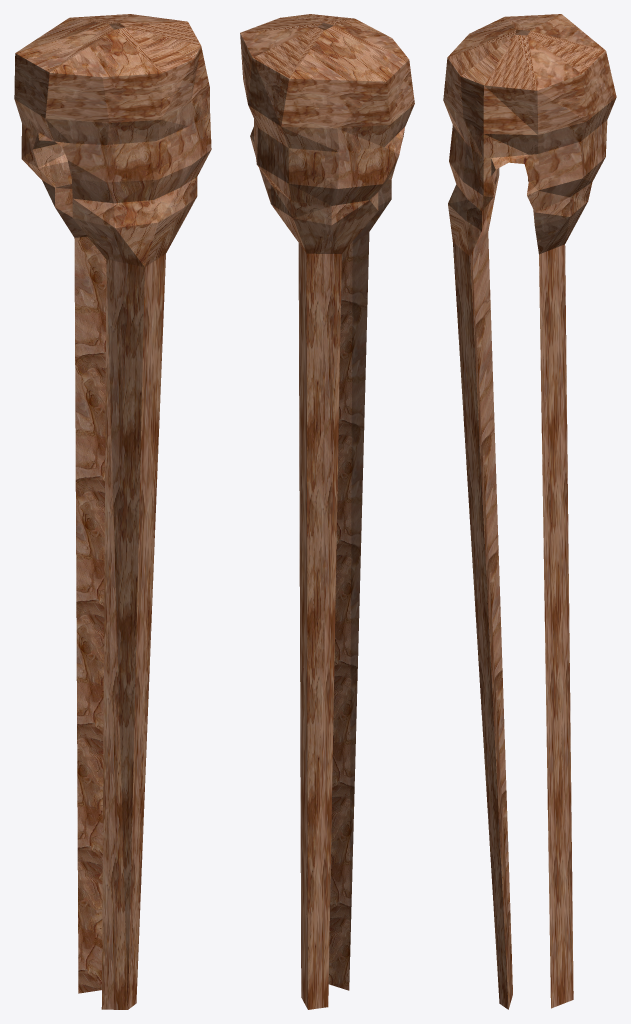
3 renders of one model, left to right at view 1: azimuth 30°, elevation 25°; view 2: azimuth 150°, elevation 25°; view 3: azimuth 270°, elevation 25°, orthographic.
Visible parts, largest first — view 1: Object_2; view 2: Object_2; view 3: Object_2.
Part boxes in pixels (left/top/right/bottom): Object_2: left=14, top=14, right=211, bottom=1009; Object_2: left=240, top=14, right=414, bottom=1009; Object_2: left=443, top=14, right=616, bottom=1009.
Size of the model in its own units: 7392 by 42313 by 6845.
1 material, 1 textured.
